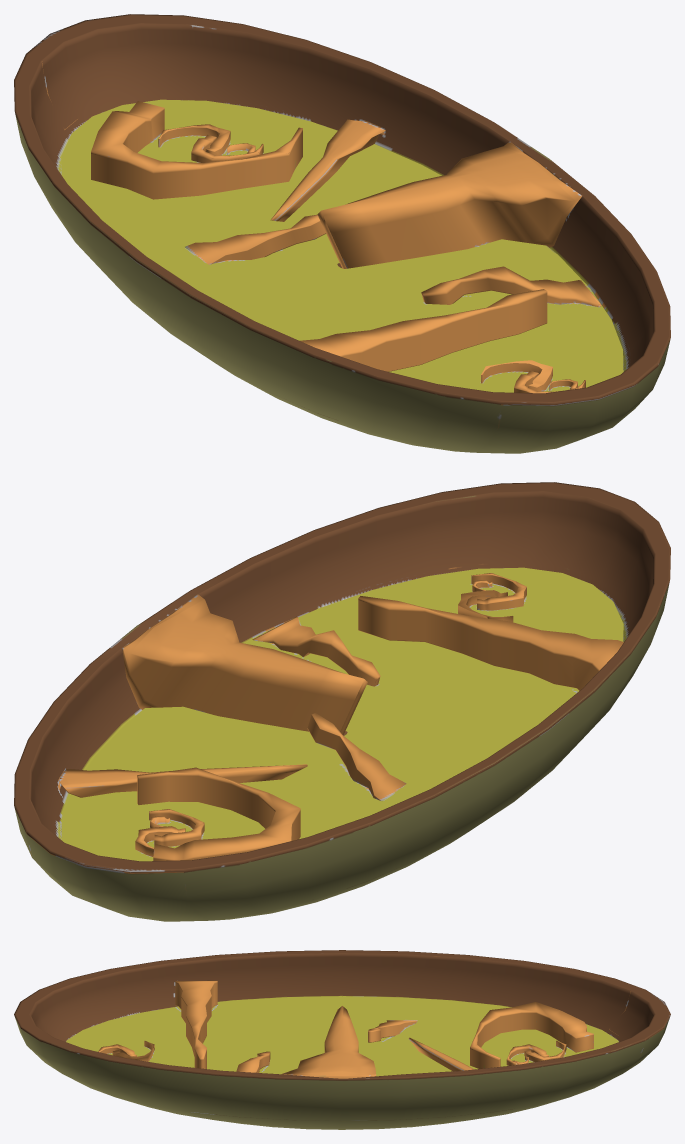
The model's file is [2.0]Mitocondria.obj.
The picture shows the model from 3 angles, top to bottom: view 1: azimuth 30°, elevation 25°; view 2: azimuth 150°, elevation 25°; view 3: azimuth 270°, elevation 25°; orthographic projection. The views are drawn at different scales.
Parts seen in each view (by area): view 1: Sphere; view 2: Sphere; view 3: Sphere.
Boxes of the visible parts, x1,y1,x2,y2 form: Sphere: (14,14,670,453); Sphere: (14,482,670,921); Sphere: (14,950,670,1129).
Bounding box in the file's own units: 1.39 × 0.495 × 3.01.
